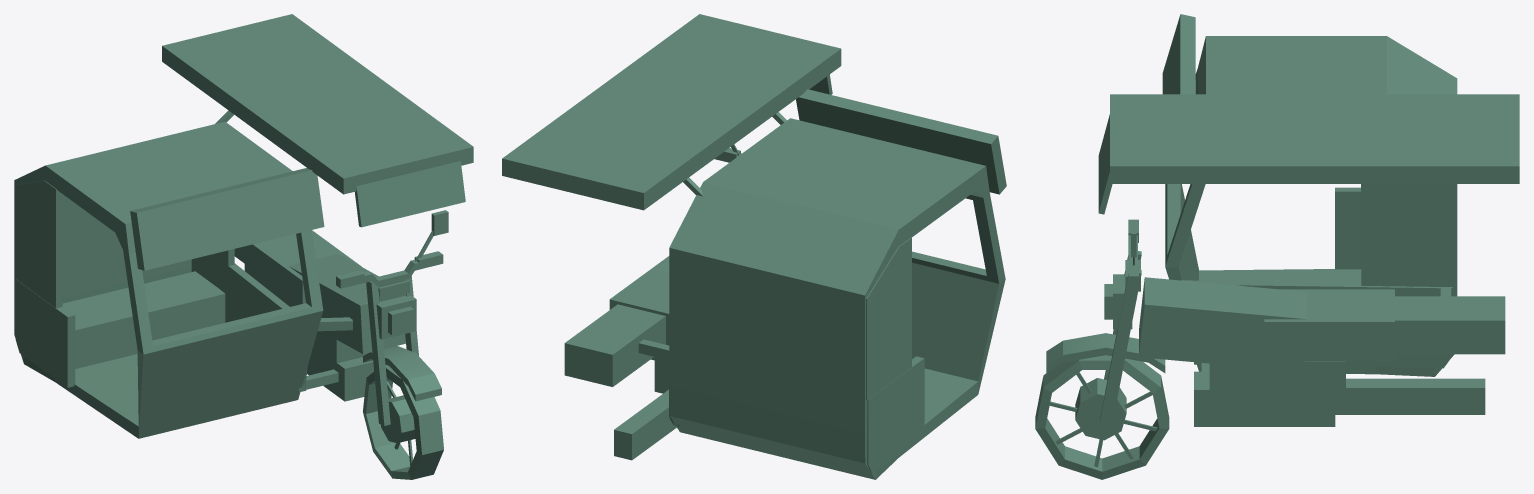
The model's file is traysikel.fbx.
3 views of the same model, side by side, from view 1: azimuth 30°, elevation 25°; view 2: azimuth 150°, elevation 25°; view 3: azimuth 270°, elevation 25° (orthographic). The views are drawn at different scales.
Visible parts, largest first — view 1: cart1, carriage2, cart, cart2, cart5, cart8, traysikel_tire, cart6, bike6, bike7, cart4, traysikel_tire6 (+7 smaller); view 2: cart1, carriage2, cart, cart5, bike11, cart6, bike12, bike7; view 3: carriage2, cart1, bike6, cart3, bike7, bike11, traysikel_tire, bike12, bike13, bike10, cart4, cart6 (+6 smaller).
Boxes of the visible parts, x1,y1,x2,y2 form: cart1: [14, 121, 323, 438]; carriage2: [162, 14, 473, 194]; cart: [130, 168, 324, 270]; cart2: [62, 271, 225, 368]; cart5: [14, 180, 62, 308]; cart8: [355, 161, 465, 227]; traysikel_tire: [363, 364, 443, 479]; cart6: [15, 279, 75, 387]; bike6: [289, 254, 405, 353]; bike7: [244, 230, 361, 306]; cart4: [191, 254, 307, 392]; traysikel_tire6: [363, 346, 441, 401]; cart1: [669, 118, 1005, 479]; carriage2: [502, 14, 841, 210]; cart: [796, 89, 1006, 194]; cart5: [866, 237, 911, 399]; bike11: [564, 304, 665, 386]; cart6: [867, 356, 924, 473]; bike12: [614, 389, 676, 460]; bike7: [609, 256, 669, 345]; carriage2: [1110, 94, 1519, 183]; cart1: [1165, 36, 1457, 376]; bike6: [1139, 277, 1307, 371]; cart3: [1361, 184, 1454, 287]; bike7: [1264, 289, 1394, 361]; bike11: [1395, 296, 1505, 354]; traysikel_tire: [1035, 355, 1169, 479]; bike12: [1335, 378, 1485, 414]; bike13: [1194, 371, 1335, 426]; bike10: [1209, 361, 1345, 392]; cart4: [1186, 280, 1452, 368]; cart6: [1335, 187, 1361, 269].
Bounding box in the file's own units: 270 × 259 × 327.
